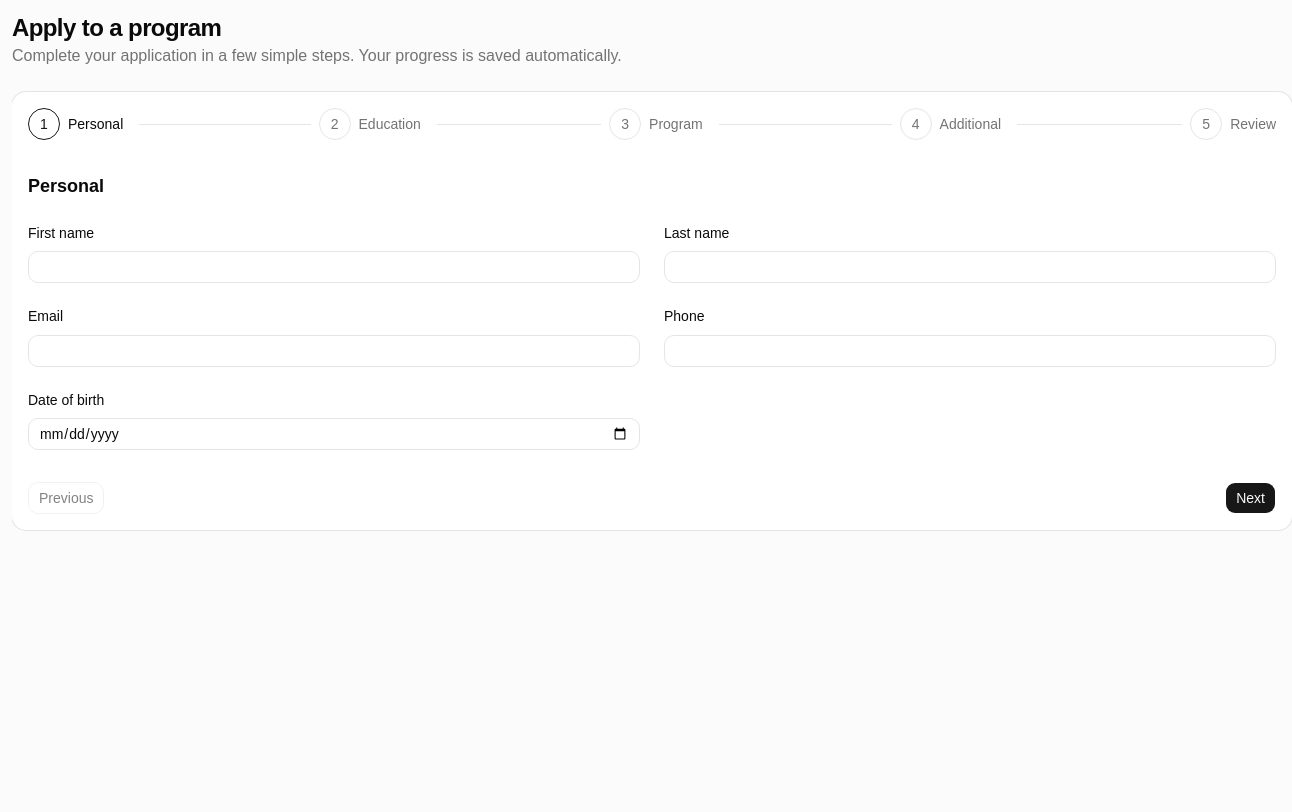
Test: ApplyPage › validates only the current step before moving on
The image size is (1292, 812).
Click the button "Next".
click(1251, 498)  # box [1225, 482, 1276, 514]
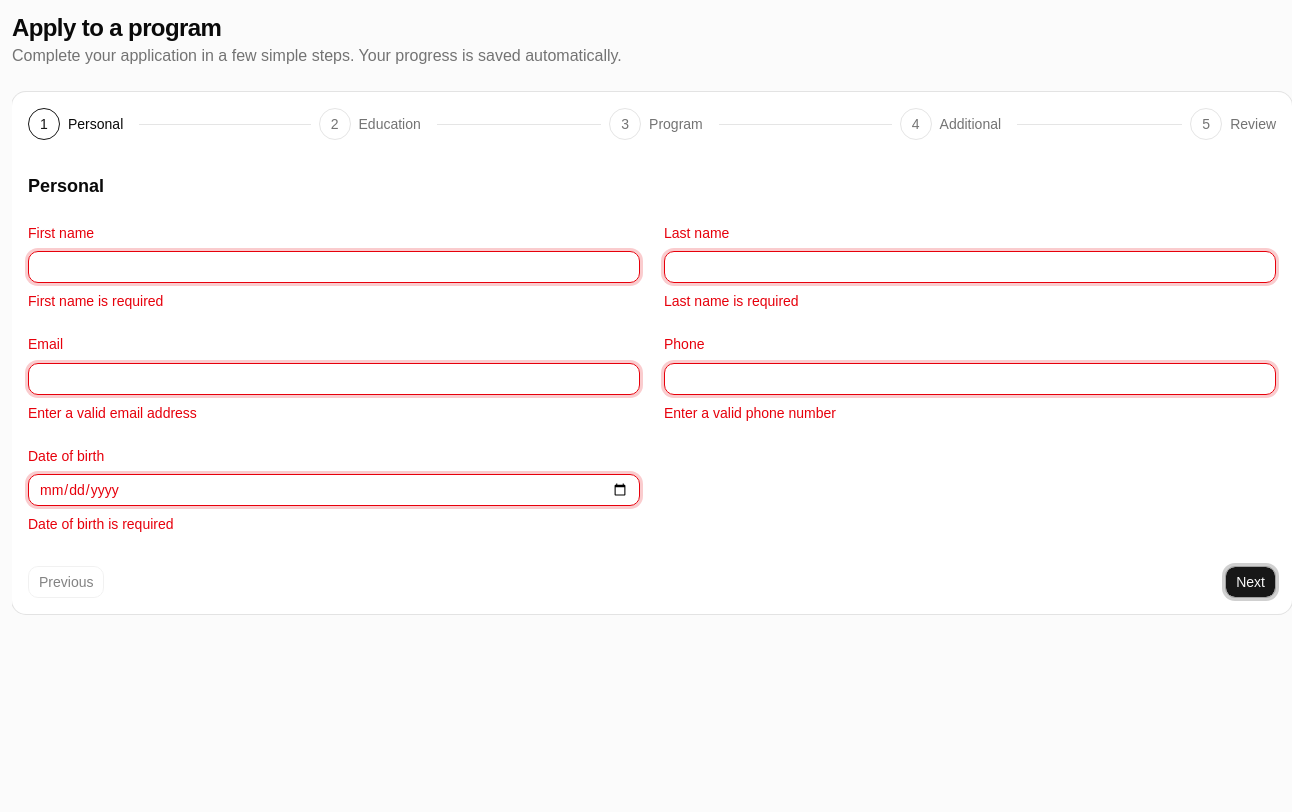
Check: the heading "Personal" is shown, box [28, 176, 104, 196]
Check: the text "First name is required" is shown, box [28, 293, 163, 309]
Check: the text "Date of birth is required" is shown, box [28, 516, 174, 532]
